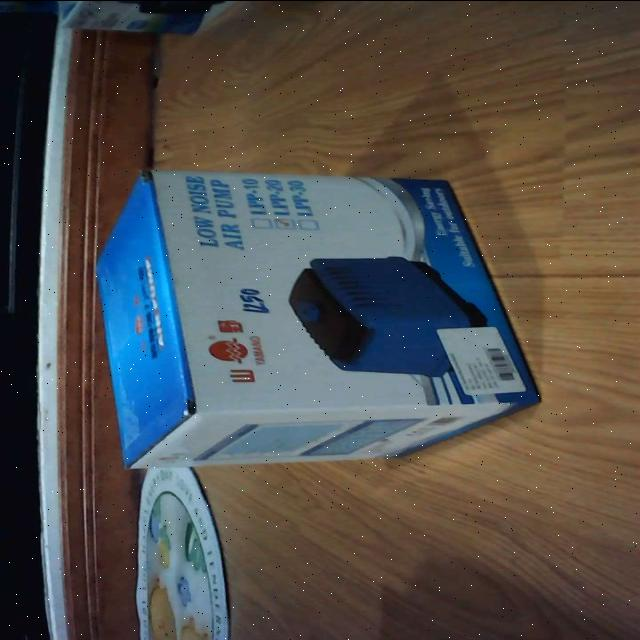YAMANO_LPP_20: (79, 158, 543, 474)
